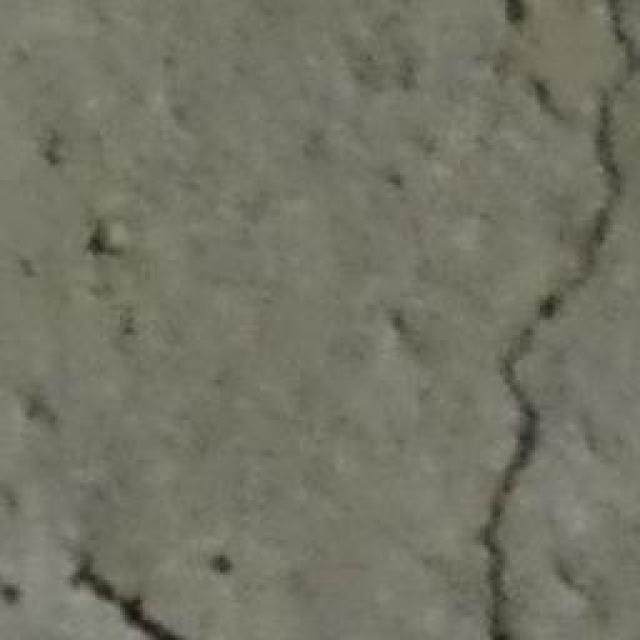Diagonal: (11, 516, 198, 640)
Longitudinal: (480, 0, 638, 640)
